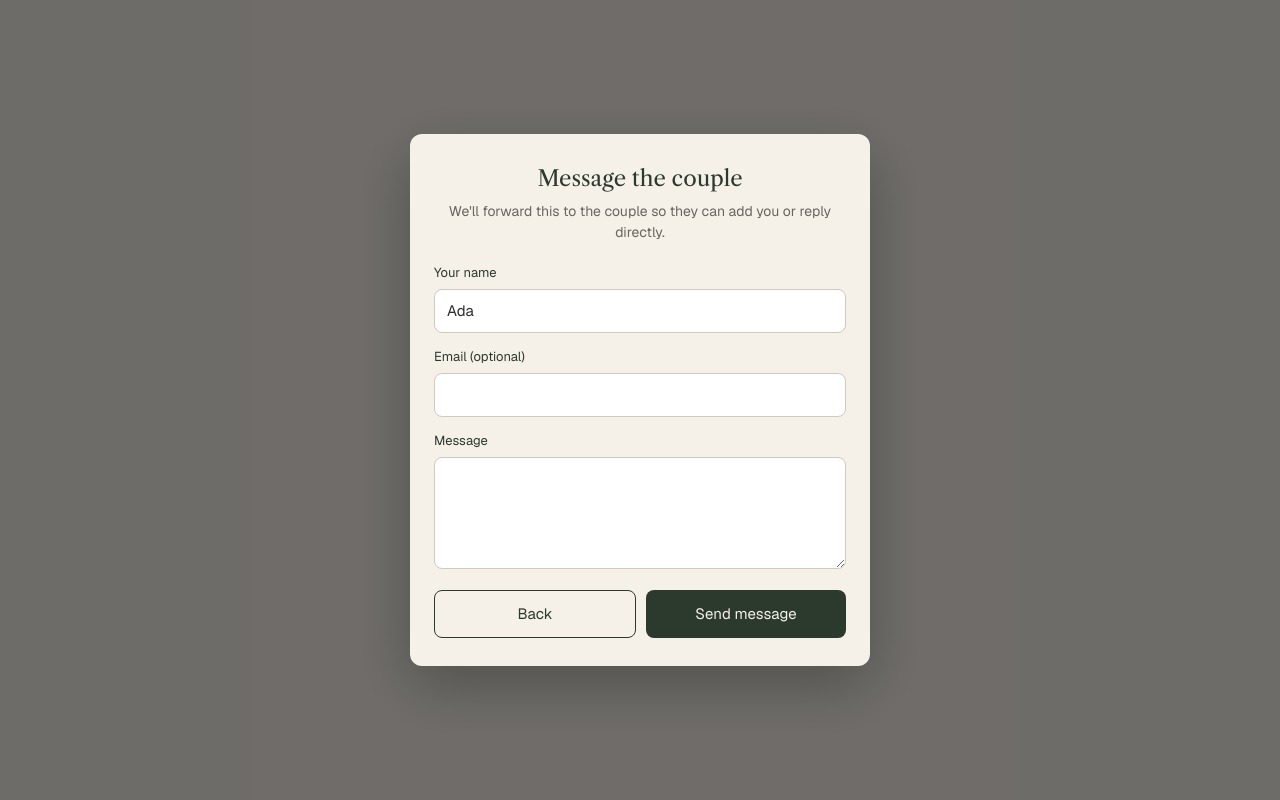
Scenario: <MessageCoupleModal /> › shows a network error when fetch rejects
This screenshot has width=1280, height=800.
Type "hi" into the text box labelled "Message".
click(640, 512); type("hi")  # box [434, 456, 846, 568]
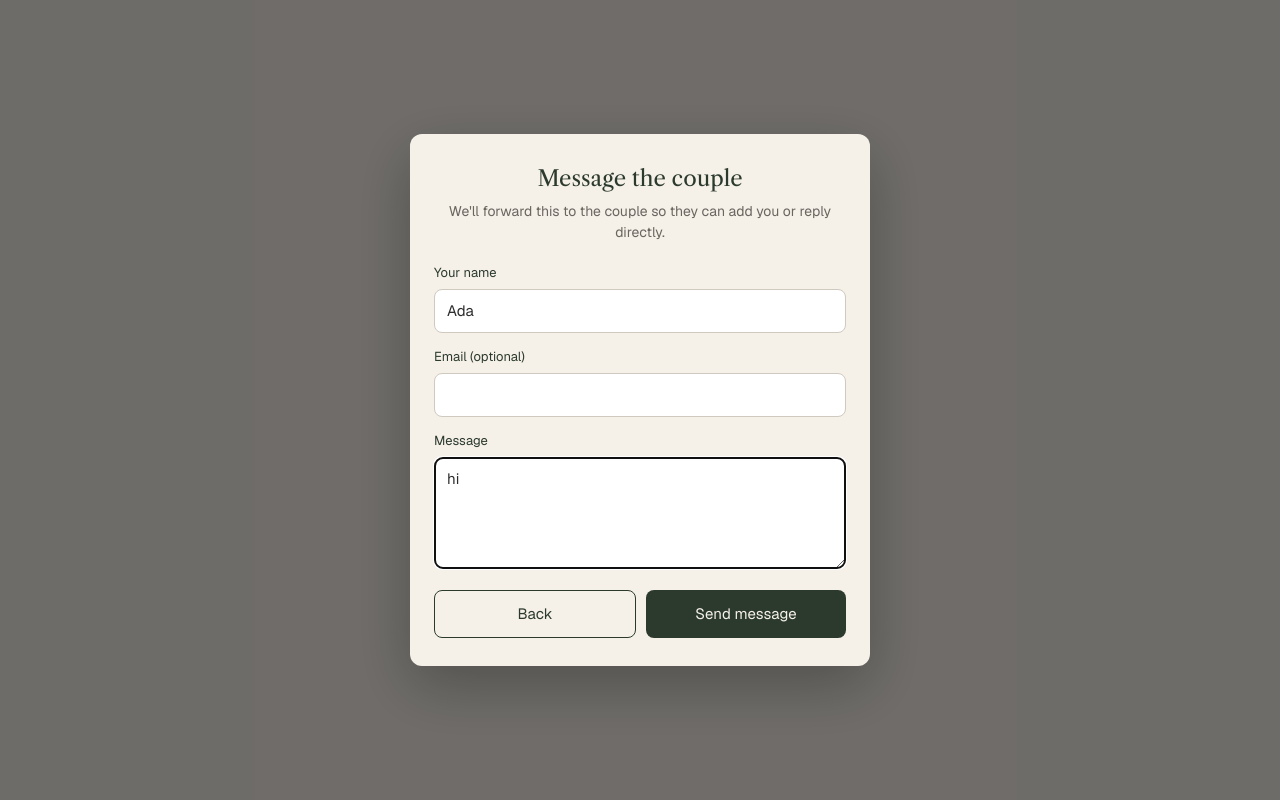
Click the button "Send message".
click(746, 614)  # box [646, 590, 846, 638]
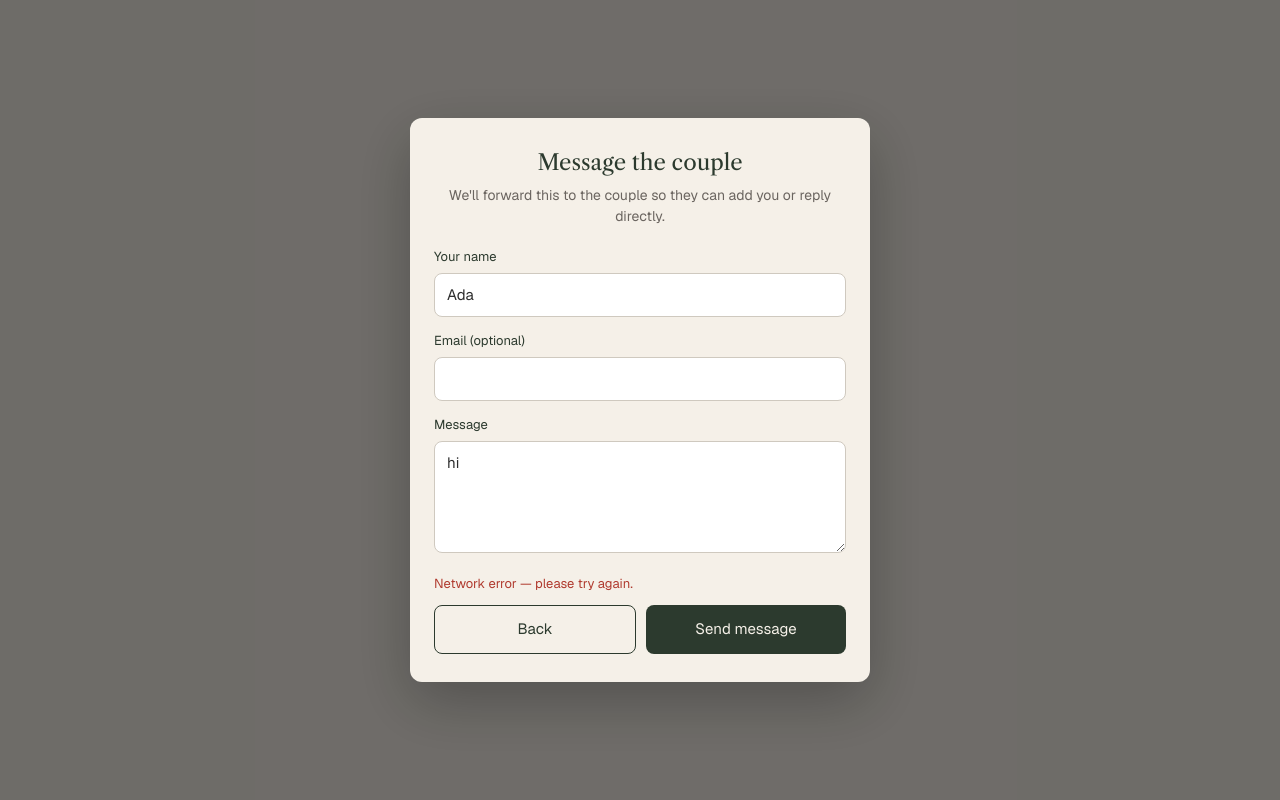
Now the message shows "Network error", box [434, 575, 633, 592]
